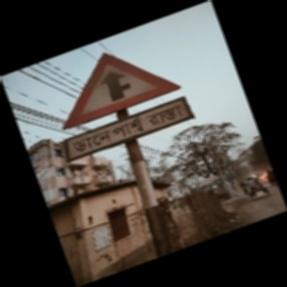Side-road-right: (61, 53, 191, 159)
